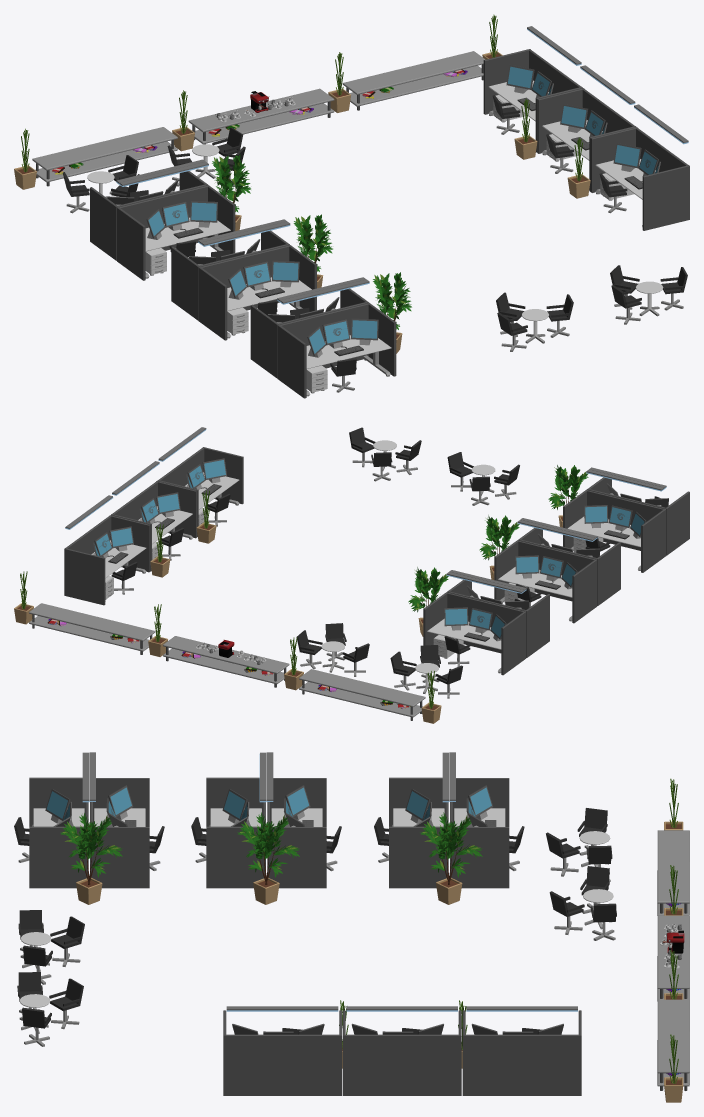
File: d-roomcomp-r8-itdepartment-in.glb
3 renders of one model, top to bottom at view 1: azimuth 30°, elevation 25°; view 2: azimuth 150°, elevation 25°; view 3: azimuth 270°, elevation 25°, orthographic. The views are drawn at different scales.
Parts seen in each view (by area): view 1: desk.033, desk.008, desk.010, desk.030, desk.011, desk.028, drawer-flat.006, drawer-flat.003, drawer-flat.004, desk.032, desk.009, desk.007 (+13 smaller); view 2: desk.007, desk.011, desk.009, desk.032, desk.028, desk.030, drawer-flat.003, drawer-flat.006, drawer-flat.004, desk.033, desk.008, desk.010 (+14 smaller); view 3: desk.030, desk.011, desk.028, desk.010, desk.033, desk.008, desk.009, desk.032, desk.007, drawer-flat.006, drawer-flat.003, table_chair.008 (+9 smaller).
Boxes of the visible parts, x1,y1,x2,y2 form: desk.033: [277, 279, 396, 398]; desk.008: [117, 162, 235, 280]; desk.010: [198, 221, 316, 340]; desk.030: [590, 104, 689, 230]; desk.011: [483, 26, 582, 152]; desk.028: [537, 65, 636, 191]; drawer-flat.006: [342, 51, 485, 110]; drawer-flat.003: [32, 127, 177, 186]; drawer-flat.004: [188, 88, 334, 144]; desk.032: [250, 277, 368, 378]; desk.009: [171, 219, 289, 320]; desk.007: [90, 159, 207, 260]; desk.007: [423, 572, 526, 675]; desk.011: [64, 495, 150, 605]; desk.009: [494, 520, 597, 623]; desk.032: [563, 469, 666, 572]; desk.028: [111, 461, 196, 570]; desk.030: [157, 427, 243, 537]; drawer-flat.003: [299, 669, 425, 720]; drawer-flat.006: [29, 603, 155, 654]; drawer-flat.004: [163, 636, 289, 687]; desk.033: [587, 467, 689, 555]; desk.008: [447, 570, 549, 657]; desk.010: [518, 518, 620, 605]; desk.030: [223, 1006, 342, 1095]; desk.011: [462, 1006, 581, 1095]; desk.028: [343, 1006, 461, 1095]; desk.010: [191, 752, 266, 888]; desk.033: [14, 752, 89, 888]; desk.008: [374, 752, 448, 888]; desk.009: [266, 752, 341, 888]; desk.032: [89, 752, 164, 888]; desk.007: [449, 752, 524, 888]; drawer-flat.006: [657, 999, 689, 1090]; drawer-flat.003: [657, 830, 689, 915]; table_chair.008: [17, 972, 83, 1046].
Bounding box in the file's own units: 20.57 × 3.17 × 22.18.
4 materials, 3 textured.
